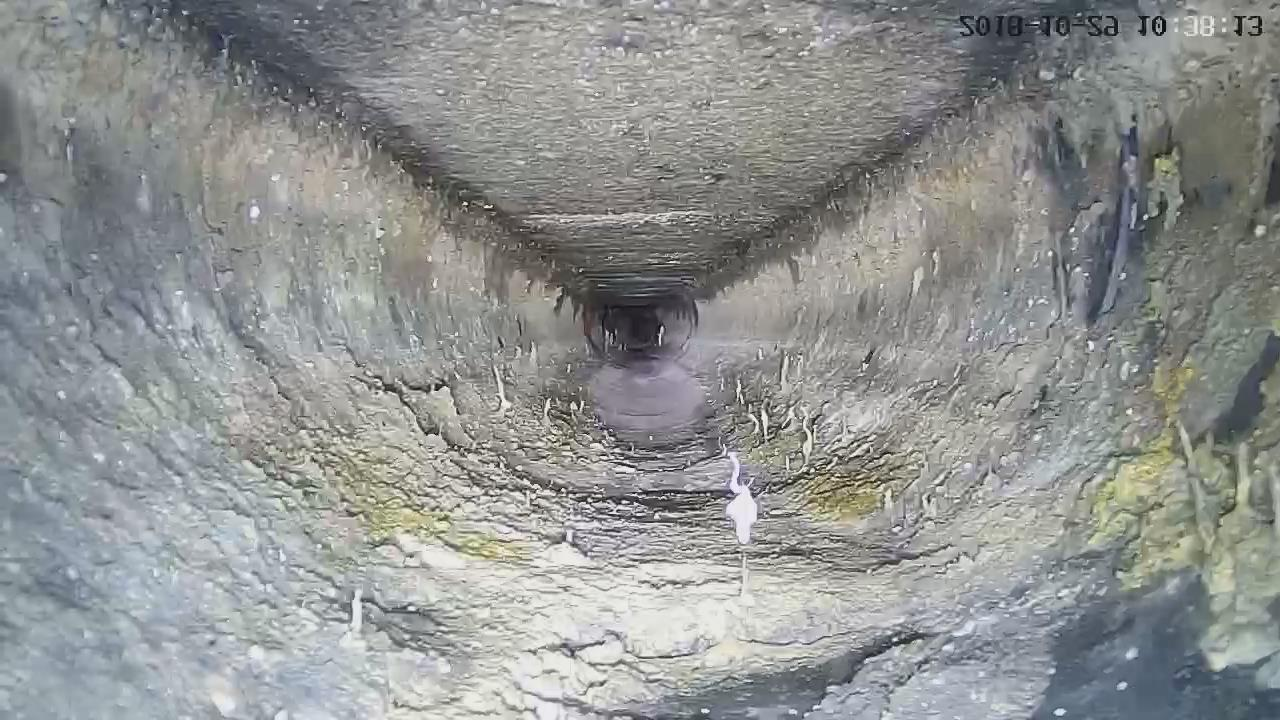FZ: (198, 1, 1094, 304)
JG: (0, 1, 1279, 720)
